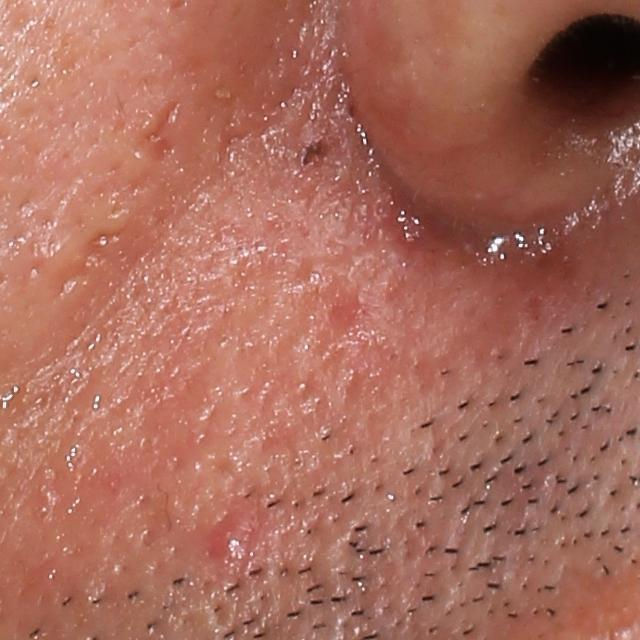atrophic_scar: (124, 100, 184, 174), (51, 262, 91, 299)
nevus: (300, 131, 327, 164)
papule: (206, 483, 270, 575), (324, 285, 390, 349)
